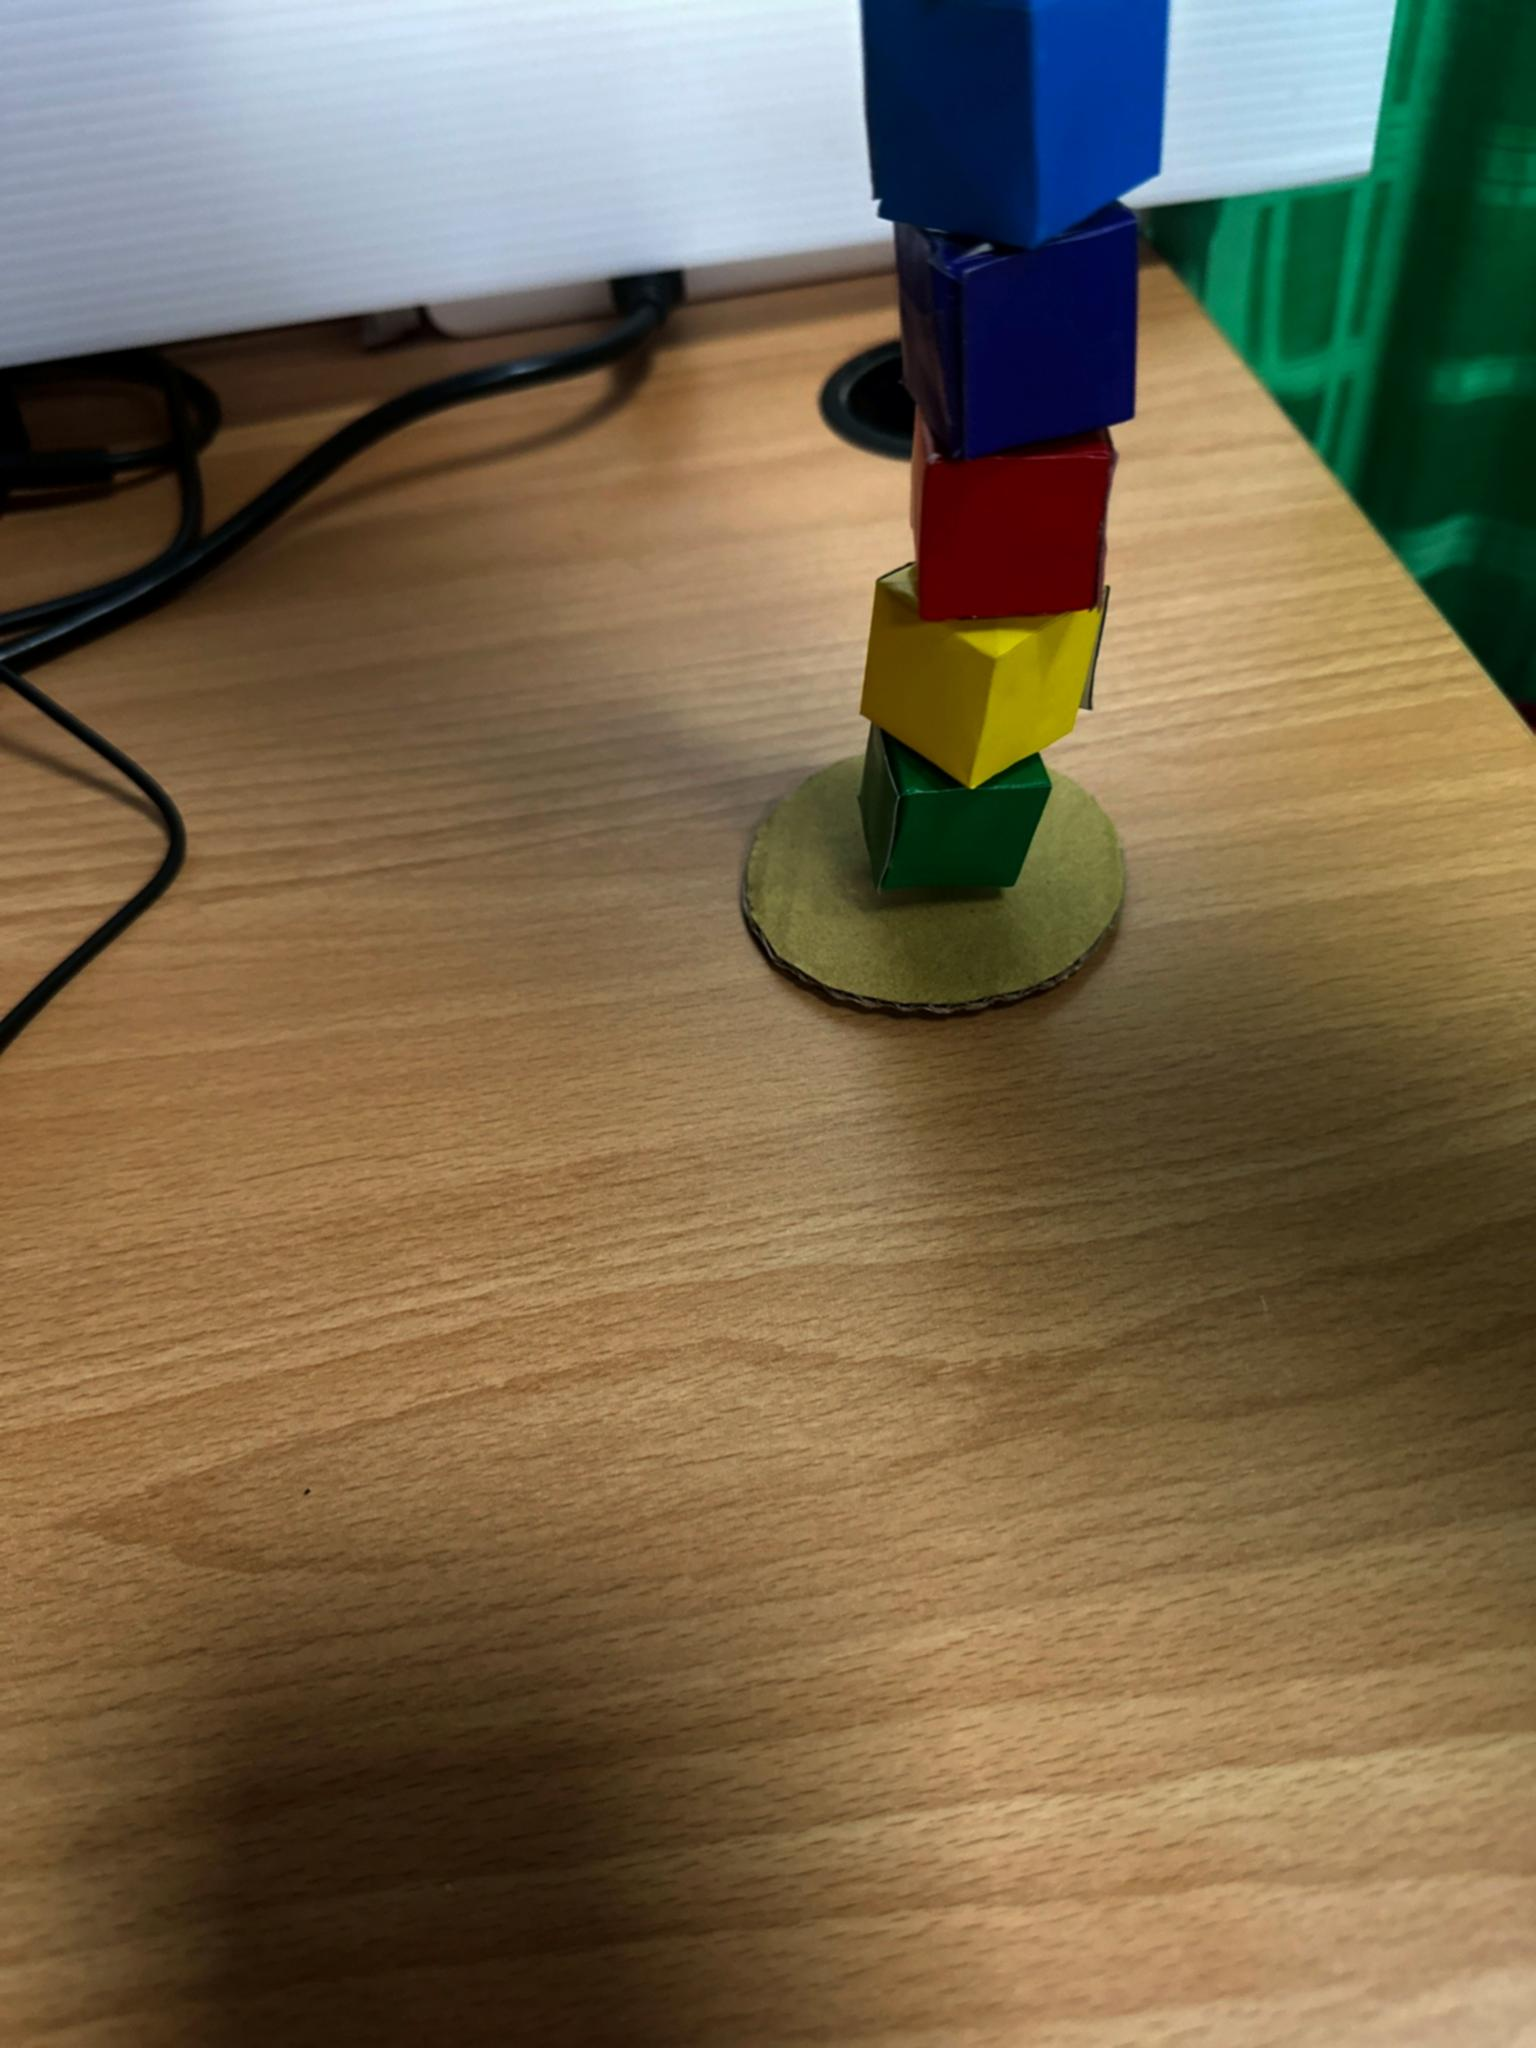base: (742, 755, 1125, 1009)
